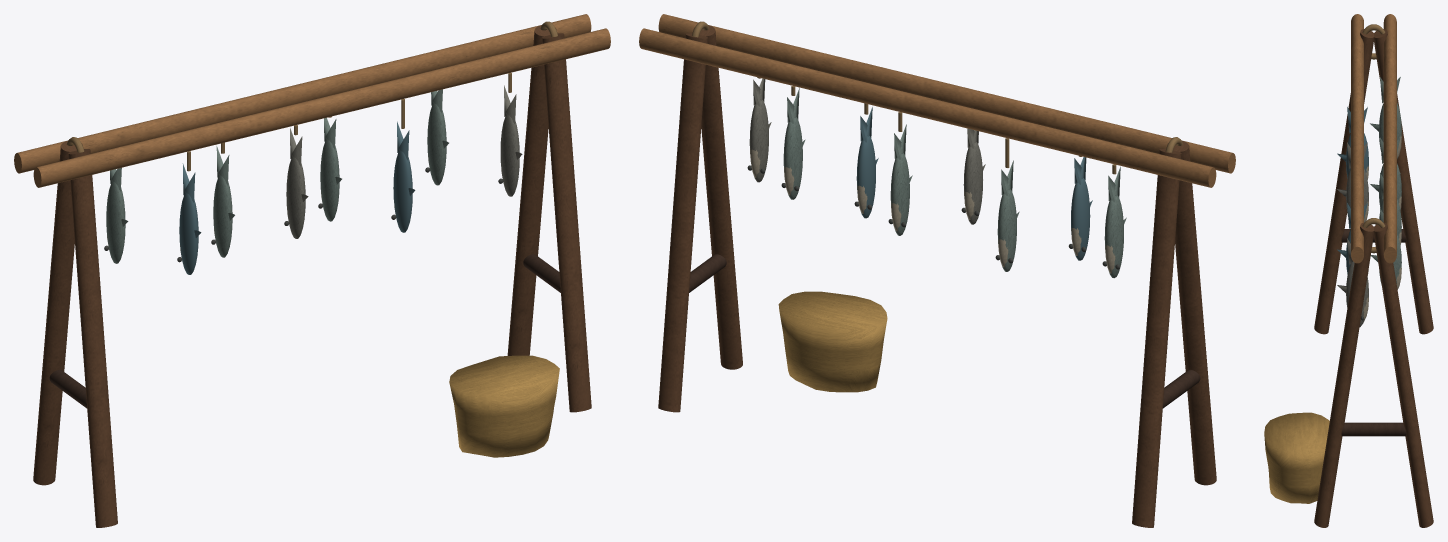
File: fish_rack.glb
3 views of the same model, side by side, from view 1: azimuth 30°, elevation 25°; view 2: azimuth 150°, elevation 25°; view 3: azimuth 270°, elevation 25° (orthographic). The views are drawn at different scales.
Parts seen in each view (by area): view 1: fish_rack; view 2: fish_rack; view 3: fish_rack.
Part boxes in pixels (x1,y1,x2,y2): fish_rack: (14, 14, 610, 527); fish_rack: (639, 14, 1235, 527); fish_rack: (1264, 14, 1433, 527).
Size of the model in its own units: 2.6 by 1.6 by 0.8.
Materials: 1 (1 with a texture image).
